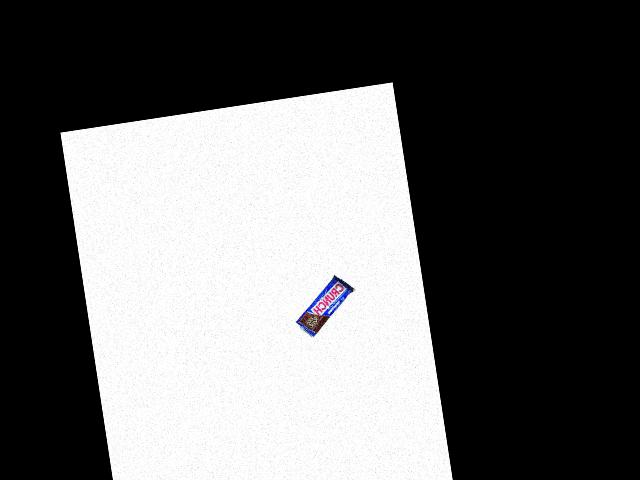chocolate: (288, 271, 362, 340)
